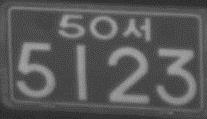0: (90, 14, 117, 40)
1: (64, 44, 98, 100)
2: (107, 46, 150, 104)
3: (156, 47, 196, 105)
5: (15, 41, 56, 98), (57, 13, 85, 38)
서: (121, 17, 151, 41)
